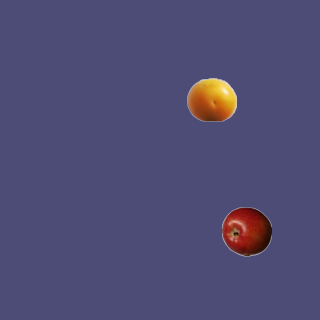Apple Braeburn: (221, 206, 271, 256)
Cherry Wax Yellow: (186, 74, 236, 124)
